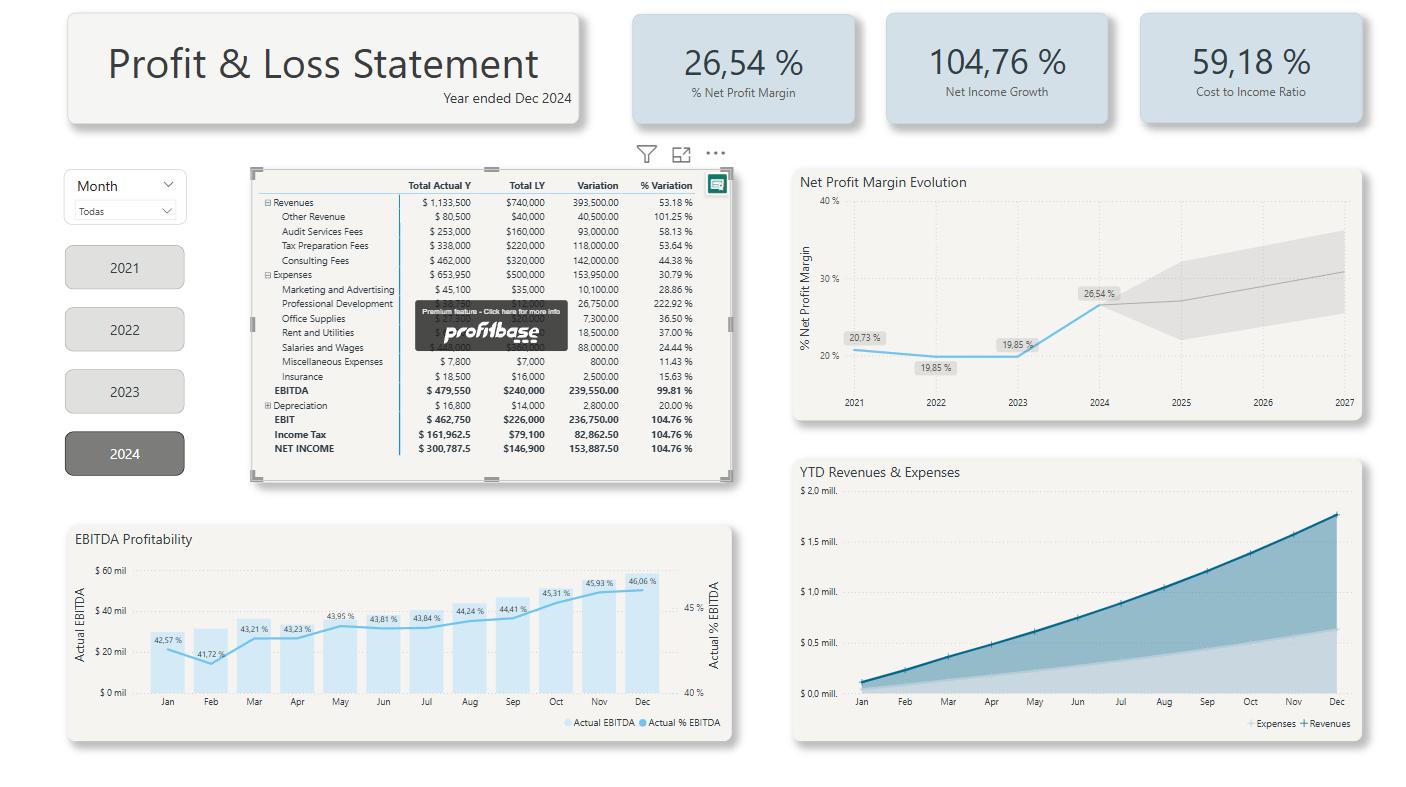

The dashboard page shown, as its layout file describes it:
{"tool":"powerbi","page":{"name":"Dashboard P&L","canvas":[1920,1080],"ordinal":0},"visuals":[{"type":"card","fields":{"Values":["Medidas.% Net Profit Margin"]},"box":[862.1,27.5,300.8,148.6],"z":0},{"type":"card","fields":{"Values":["Medidas.Cost to Income Ratio"]},"box":[1548.1,25.7,300.8,148.6],"z":1000},{"type":"lineStackedColumnComboChart","title":"EBITDA Profitability ","fields":{"Y":["Medidas.EBITDA"],"Y2":["Medidas.% EBITDA"],"Category":["Calendar.Month"]},"box":[98.3,718.3,898.3,291.7],"z":2000},{"type":"financialreportingmatrixD8A502553641450F8EAEB9BA40B2166E","fields":{"Rows":["Categories.Type","Categories.Category"],"Values":["Medidas.SUM Actual","Medidas.SUM LY"]},"box":[346,236,650,424],"z":3000},{"type":"lineChart","title":"Net Profit Margin Evolution","fields":{"Category":["Calendar.Year"],"Y":["Medidas.% Net Profit Margin"]},"box":[1078.3,236.7,770,340],"z":4000},{"type":"advancedSlicerVisual","fields":{"Values":["Calendar.Year"]},"box":[90,335,172.5,325],"z":5000},{"type":"stackedAreaChart","title":"YTD Revenues & Expenses","fields":{"Y":["Medidas.YTD Amount"],"Series":["Categories.Type"],"Category":["Calendar.Month"]},"box":[1078.3,628.3,770,381.7],"z":6000},{"type":"textbox","box":[98,26,692,150],"z":7000},{"type":"card","fields":{"Values":["Medidas.Net Income Growth"]},"box":[1205,25,300,150],"z":8000},{"type":"slicer","fields":{"Values":["Calendar.Month"]},"box":[93.3,236.7,166.7,75],"z":9000}]}

Visuals, with their boxes in screenshot pixels (x1, y1, x2, y2), scaled from the page's 1920x1080 canvas onto the 1406x787 screenshot:
card - Medidas.% Net Profit Margin: <box>631,20,852,128</box>
card - Medidas.Cost to Income Ratio: <box>1134,19,1354,127</box>
"EBITDA Profitability " lineStackedColumnComboChart: <box>72,523,730,736</box>
financialreportingmatrixD8A502553641450F8EAEB9BA40B2166E - Categories.Type x Categories.Category: <box>253,172,729,481</box>
"Net Profit Margin Evolution" lineChart: <box>790,172,1353,420</box>
advancedSlicerVisual - Calendar.Year: <box>66,244,192,481</box>
"YTD Revenues & Expenses" stackedAreaChart: <box>790,458,1353,736</box>
textbox: <box>72,19,579,128</box>
card - Medidas.Net Income Growth: <box>882,18,1102,128</box>
slicer - Calendar.Month: <box>68,172,190,227</box>
